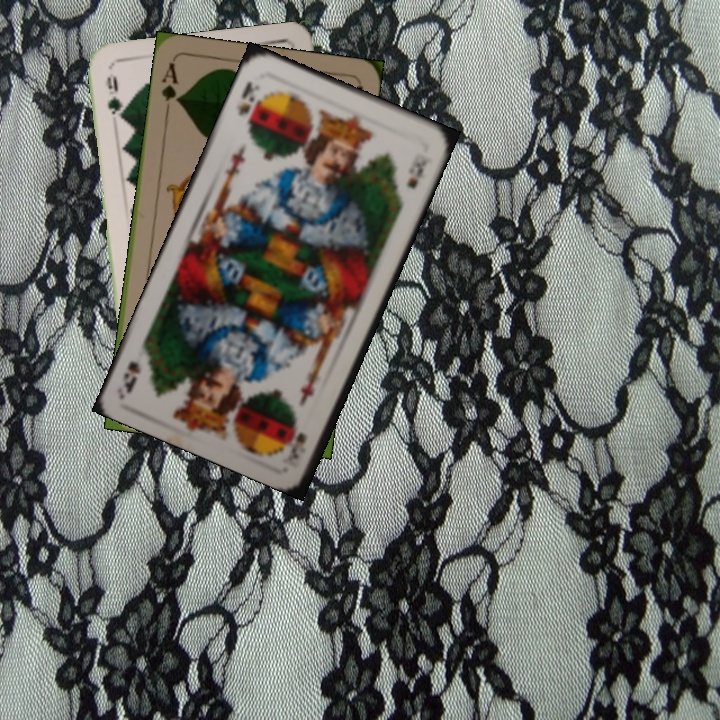G9: (103, 72, 127, 124)
GA: (157, 58, 183, 118)
SK: (233, 78, 262, 127), (286, 428, 309, 464)
